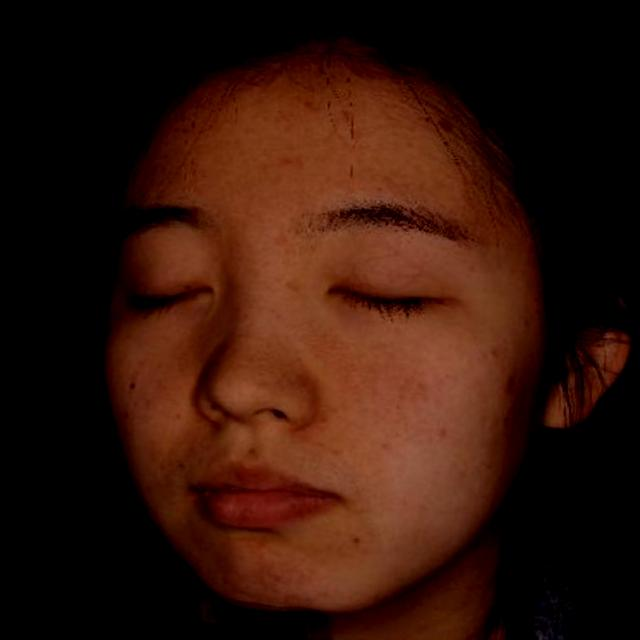darkspot: (380, 357, 450, 421), (248, 136, 318, 192), (300, 424, 358, 476), (267, 260, 317, 310), (501, 300, 544, 343), (440, 447, 480, 492), (362, 428, 404, 468), (419, 412, 460, 452), (466, 332, 508, 371), (487, 363, 525, 403), (259, 220, 297, 258), (366, 428, 402, 461), (160, 400, 193, 433), (112, 396, 142, 430), (235, 434, 266, 464)
